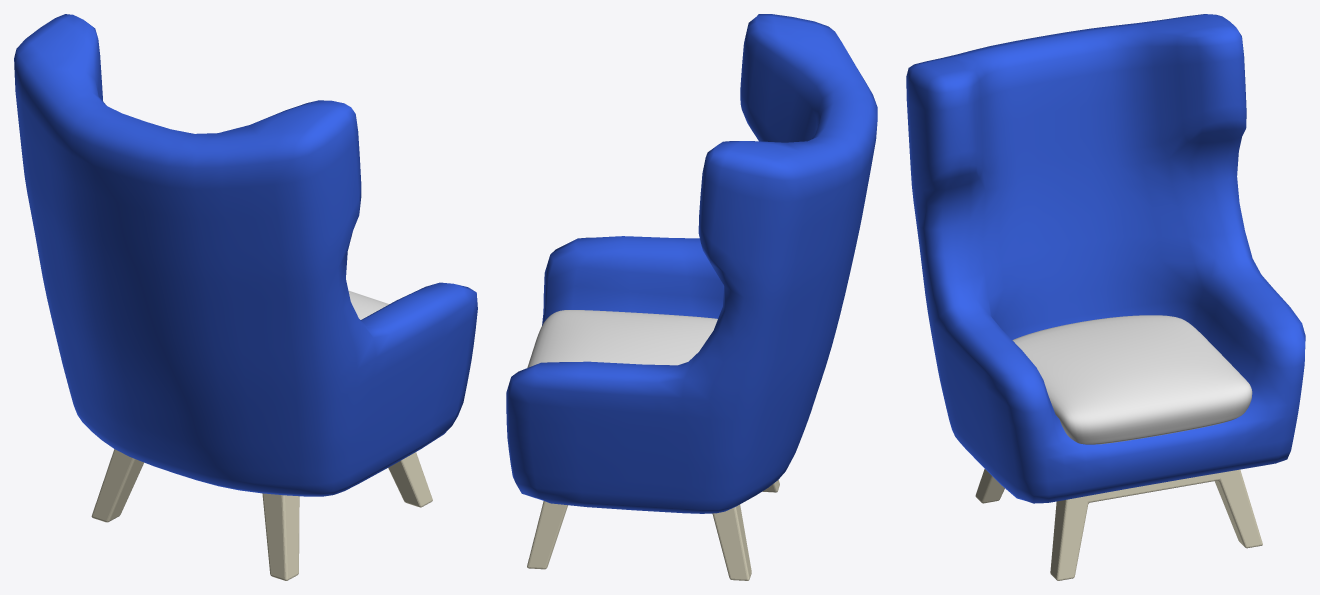
File: kreslo.fbx
3 views of the same model, side by side, from view 1: azimuth 30°, elevation 25°; view 2: azimuth 150°, elevation 25°; view 3: azimuth 270°, elevation 25° (orthographic). The views are drawn at different scales.
Parts seen in each view (by area): view 1: Cube.008, Cube.010, Cube.009; view 2: Cube.008, Cube.009, Cube.010; view 3: Cube.008, Cube.009, Cube.010.
Boxes of the visible parts, x1,y1,x2,y2 form: Cube.008: (14, 14, 477, 496); Cube.010: (91, 449, 432, 580); Cube.009: (348, 290, 388, 319); Cube.008: (506, 14, 877, 513); Cube.009: (527, 310, 717, 367); Cube.010: (527, 480, 779, 580); Cube.008: (906, 14, 1305, 503); Cube.009: (1012, 315, 1252, 444); Cube.010: (975, 469, 1262, 580).
Size of the model in its own units: 369 by 456 by 381.
